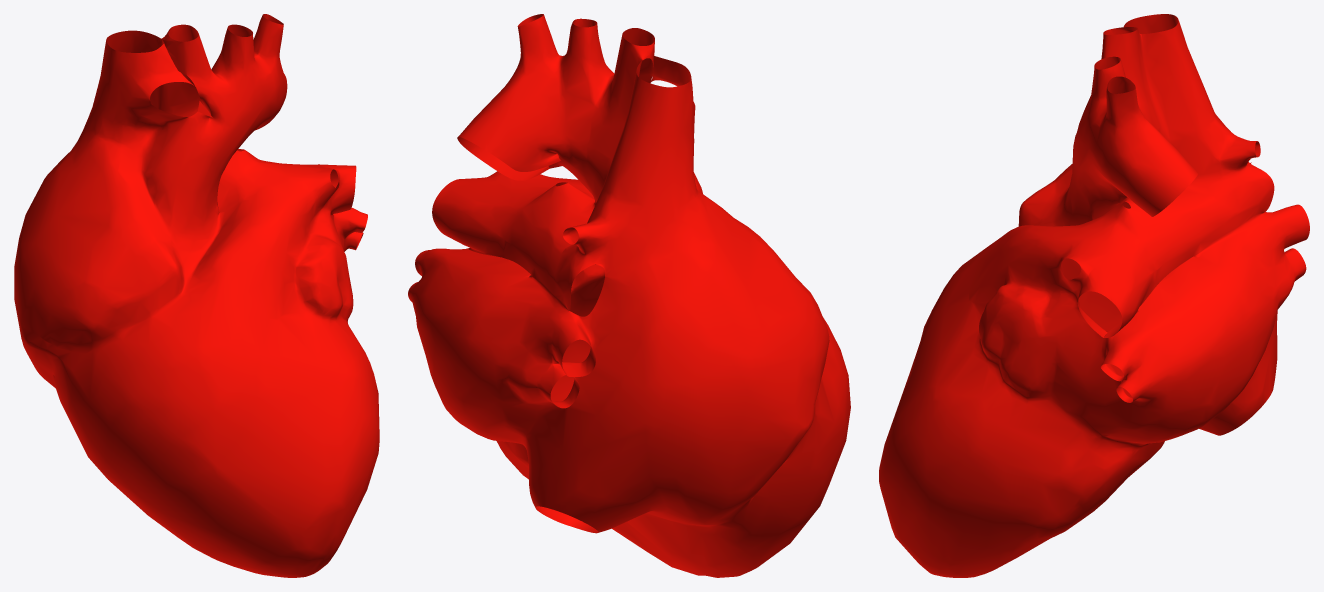
Rendered from corazon.FBX.
3 views of the same model, side by side, from view 1: azimuth 30°, elevation 25°; view 2: azimuth 150°, elevation 25°; view 3: azimuth 270°, elevation 25° (orthographic). The views are drawn at different scales.
Parts seen in each view (by area): view 1: 0----01; view 2: 0----01; view 3: 0----01.
Part boxes in pixels (box(x1,y1,x2,y2)): 0----01: box(14, 14, 379, 577); 0----01: box(408, 14, 850, 577); 0----01: box(879, 14, 1309, 577).
Bounding box in the file's own units: 5.76 × 8.22 × 6.04.
